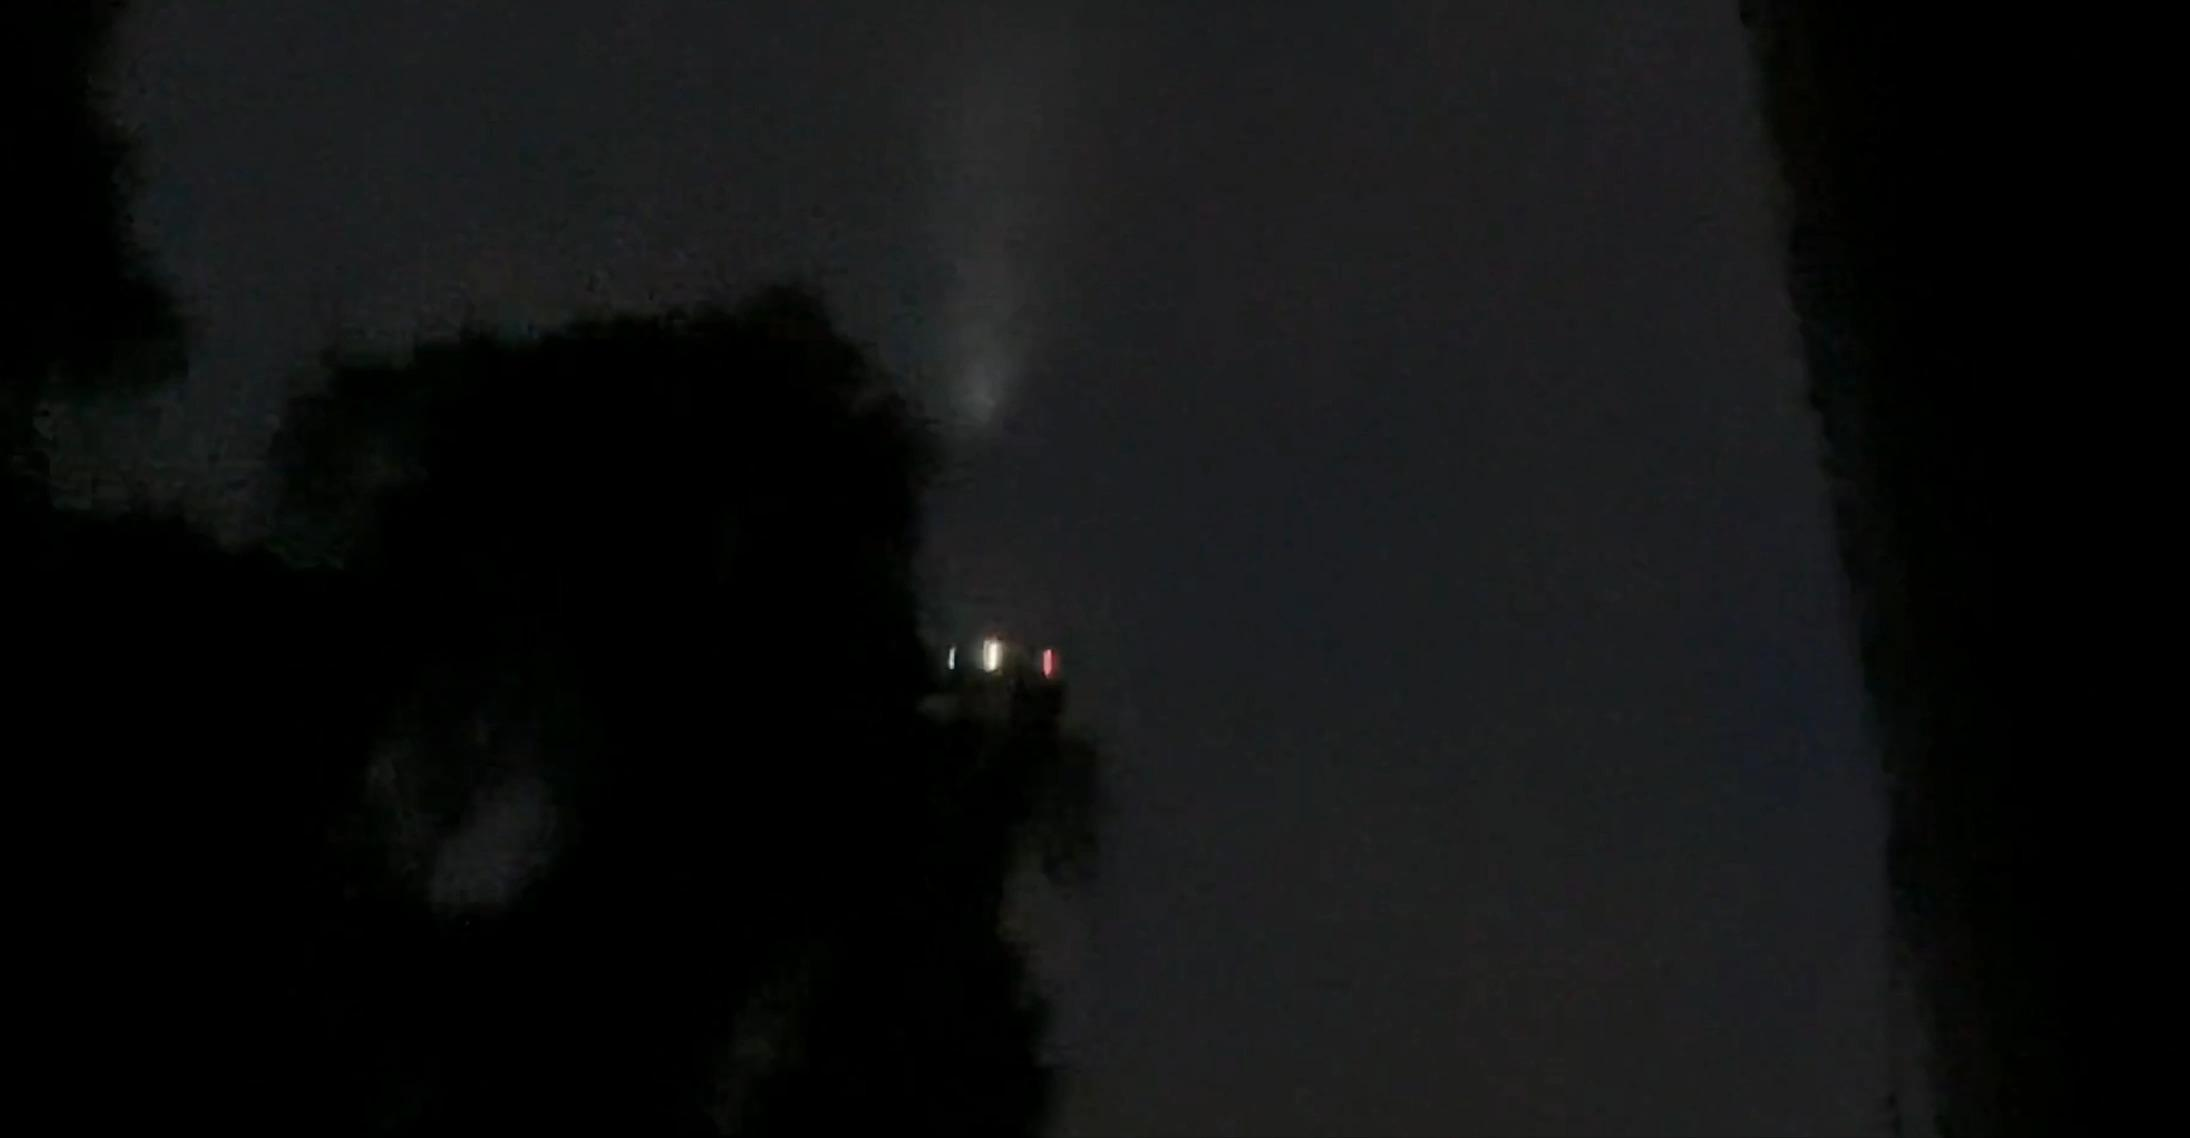Plane: (912, 579, 1081, 707)
